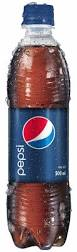bottle: (2, 2, 75, 252)
pepsi: (8, 113, 64, 180)
plastic: (2, 2, 77, 251)
